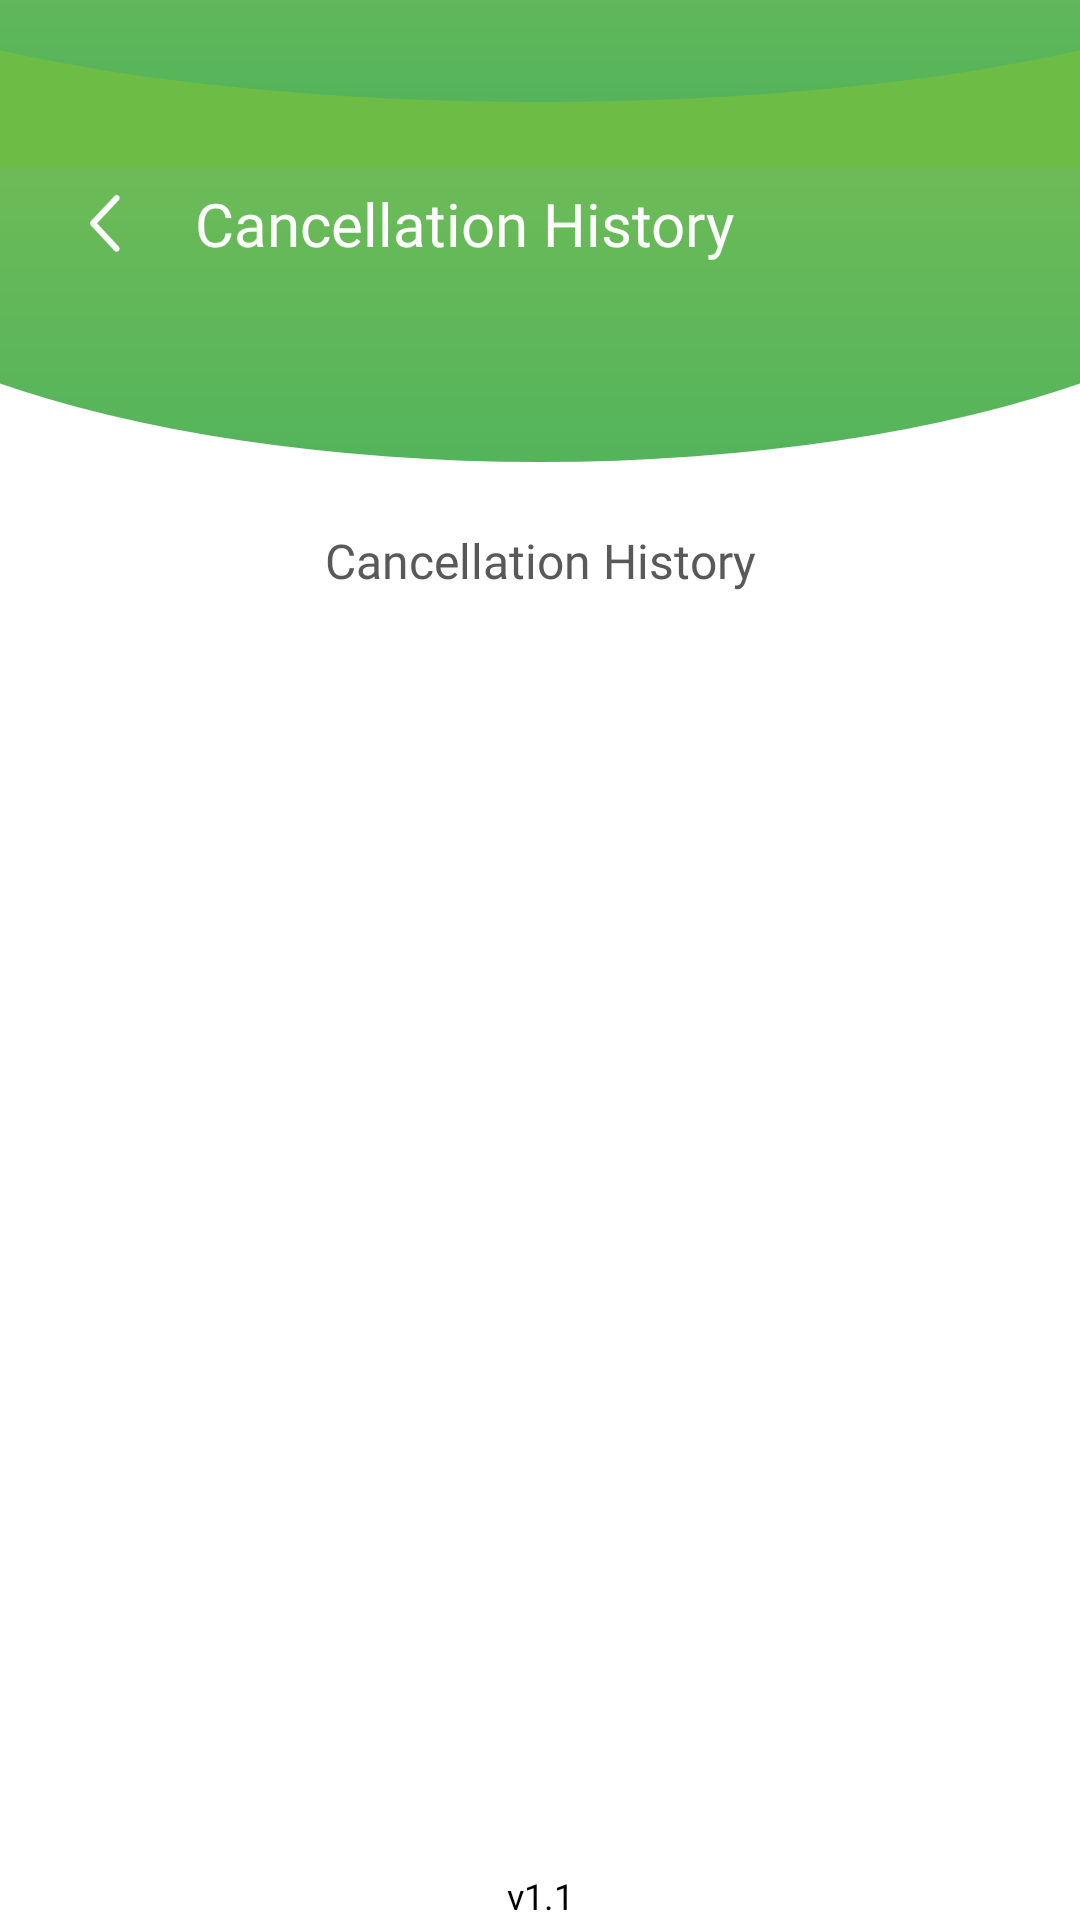

Screen size 1080w x 1920h. Icon name, then its center in pixels as point (x, y):
back: point (105, 223)
